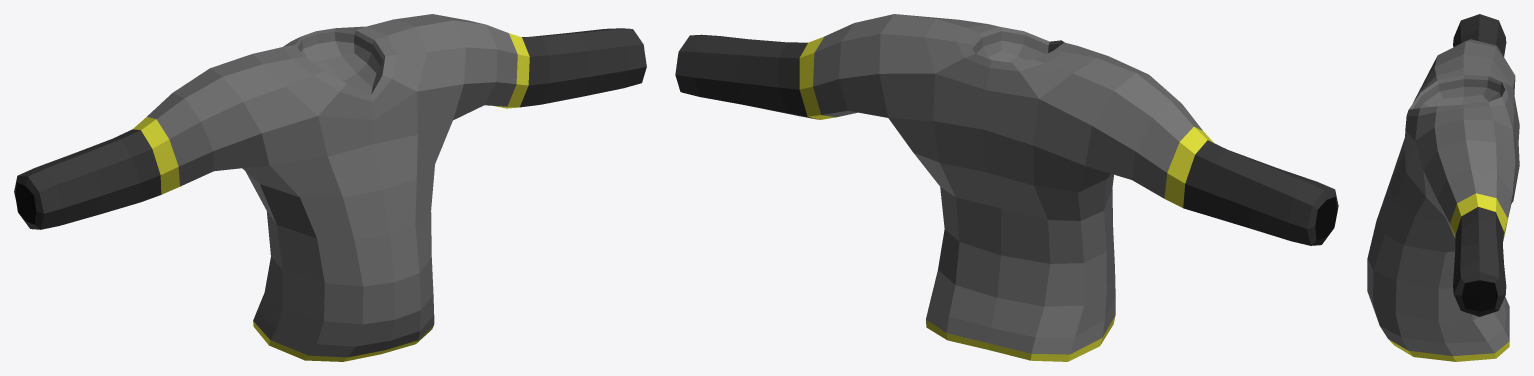
File: Model_Kolczuga.fbx
The picture shows the model from 3 angles, left to right: view 1: azimuth 30°, elevation 25°; view 2: azimuth 150°, elevation 25°; view 3: azimuth 270°, elevation 25°; orthographic projection. The views are drawn at different scales.
Visible parts, largest first — view 1: Cube; view 2: Cube; view 3: Cube.
Part boxes in pixels (x1,y1,x2,y2): Cube: [14, 14, 646, 361]; Cube: [675, 14, 1338, 361]; Cube: [1367, 14, 1519, 361].
Bounding box in the file's own units: 36.79 × 65.61 × 148.
